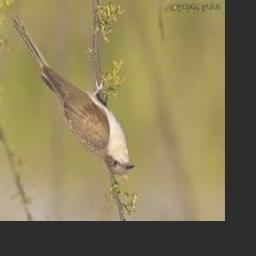Cuckoo: (12, 18, 134, 175)
